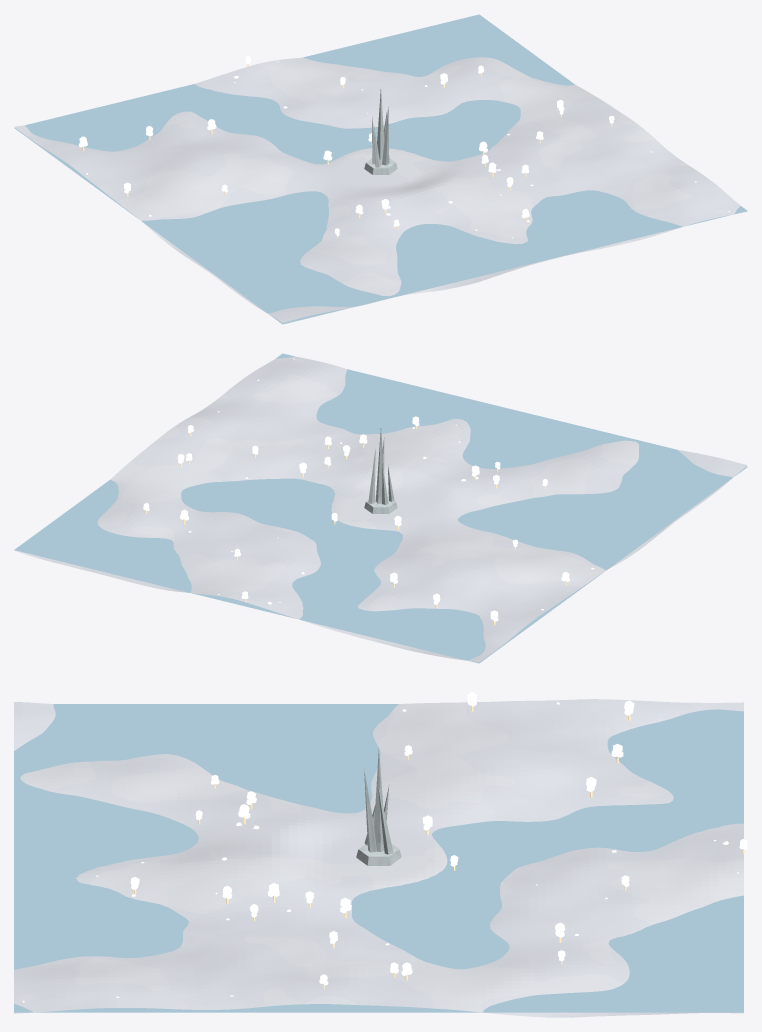
Rendered from map_snow.glb.
3 views of the same model, one above another, from view 1: azimuth 30°, elevation 25°; view 2: azimuth 150°, elevation 25°; view 3: azimuth 270°, elevation 25° (orthographic). The views are drawn at different scales.
Parts seen in each view (by area): view 1: Snow_Ground, Snow_Water, Snow_FrozenSpire; view 2: Snow_Ground, Snow_Water, Snow_FrozenSpire; view 3: Snow_Ground, Snow_Water, Snow_FrozenSpire.
Boxes of the visible parts, left/top/right/bottom form: Snow_Ground: left=14, top=55, right=747, bottom=322; Snow_Water: left=14, top=14, right=747, bottom=324; Snow_FrozenSpire: left=364, top=89, right=397, bottom=174; Snow_Ground: left=14, top=356, right=747, bottom=662; Snow_Water: left=14, top=353, right=747, bottom=663; Snow_FrozenSpire: left=364, top=428, right=397, bottom=513; Snow_Ground: left=14, top=692, right=747, bottom=1017; Snow_Water: left=14, top=704, right=743, bottom=1012; Snow_FrozenSpire: left=356, top=748, right=401, bottom=865.
Size of the model in its own units: 320 by 58.38 by 322.
Materials: 7 (3 with a texture image).
